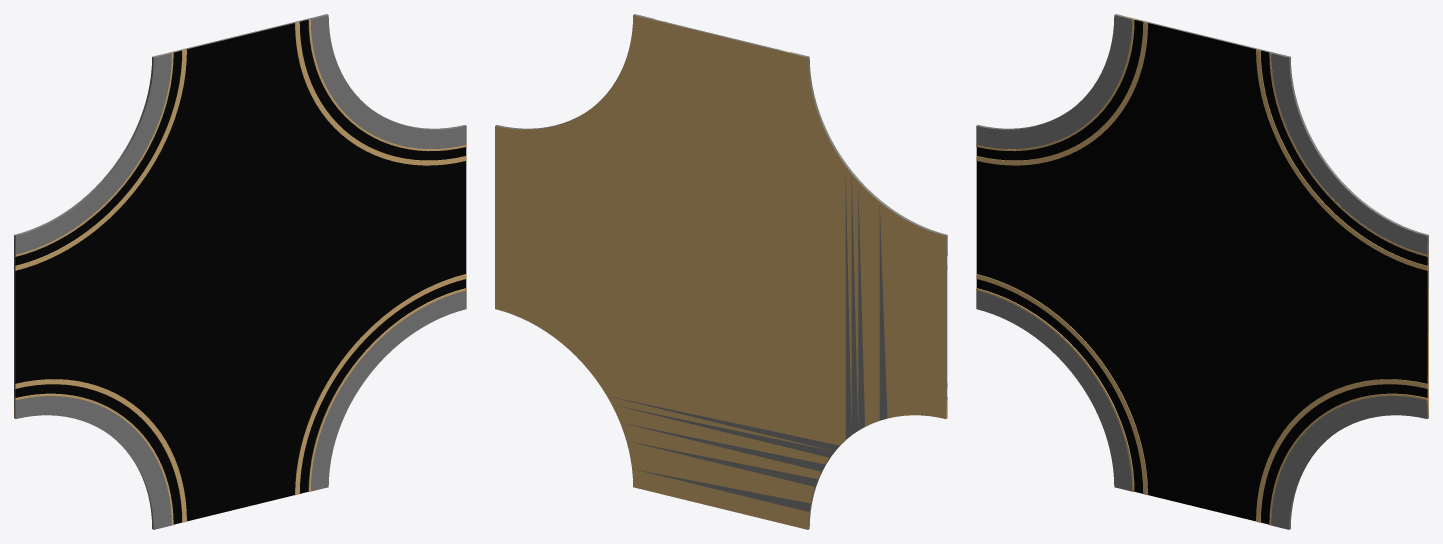
The model's file is 4way.fbx.
The picture shows the model from 3 angles, left to right: view 1: azimuth 30°, elevation 25°; view 2: azimuth 150°, elevation 25°; view 3: azimuth 330°, elevation 25°; orthographic projection.
Parts seen in each view (by area): view 1: Road_4way-section; view 2: Road_4way-section; view 3: Road_4way-section.
Part boxes in pixels (x1,y1,x2,y2): Road_4way-section: (14,14,466,529); Road_4way-section: (495,14,947,529); Road_4way-section: (976,14,1428,529).
Bounding box in the file's own units: 2500 × 2500 × 16.
